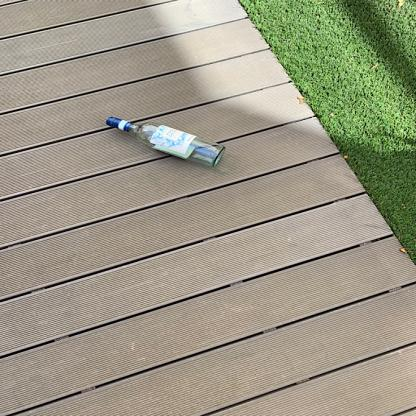trash: (102, 112, 228, 169)
